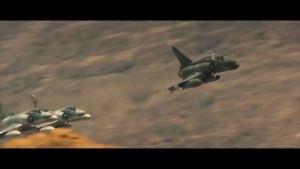flight: (165, 45, 240, 93), (30, 94, 92, 131), (1, 101, 59, 139)
